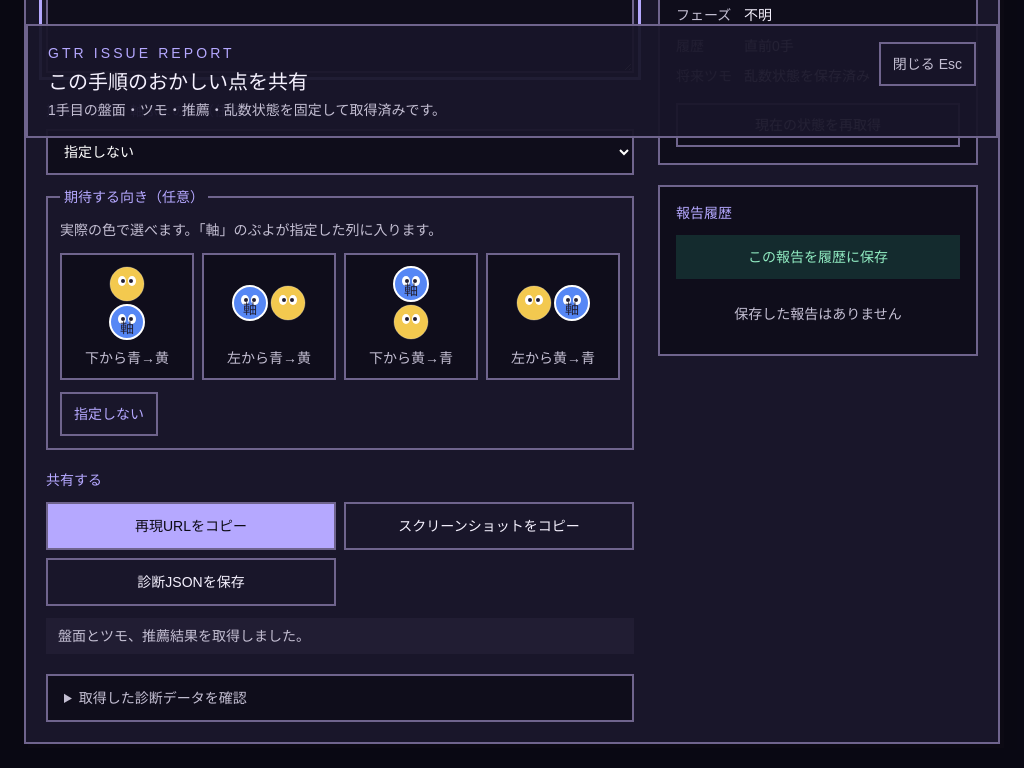
Test: hides the Codex report in production while keeping normal replay sharing usable
(page scrolled)
Click the button "再現URLをコピー": point(191, 526) [46, 502, 336, 550]
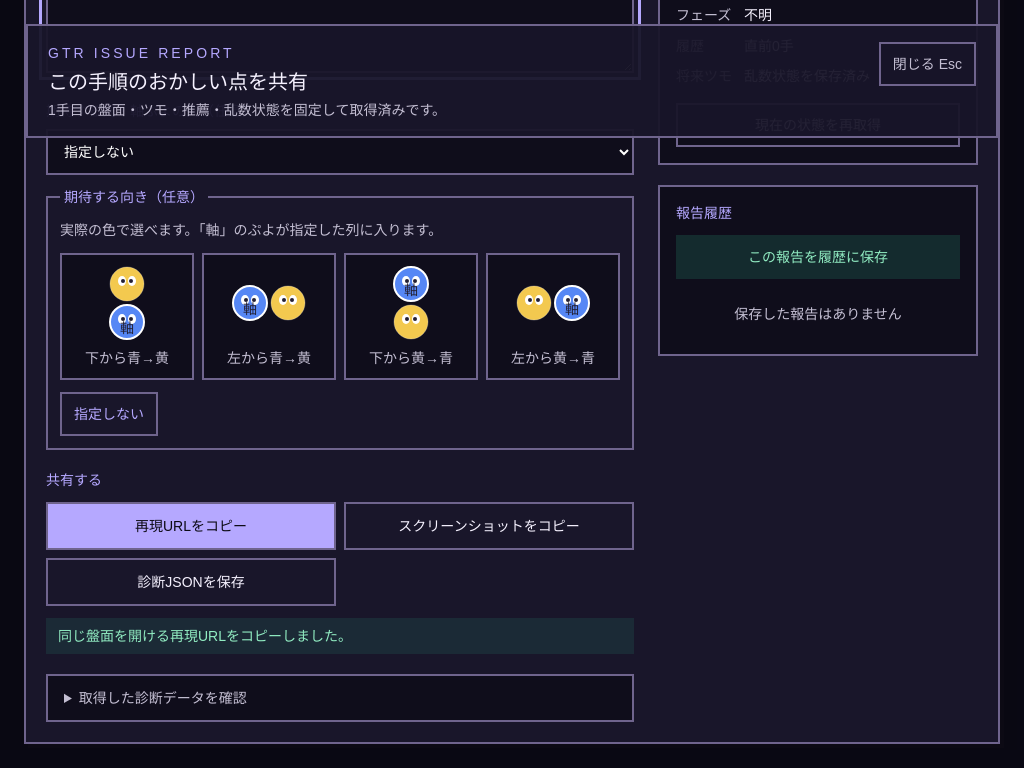
Check: the button "スクリーンショットをコピー" is shown, box [344, 502, 634, 550]
Check: the message reads "同じ盤面を開ける再現URLをコピーしました。", box [58, 628, 352, 644]
